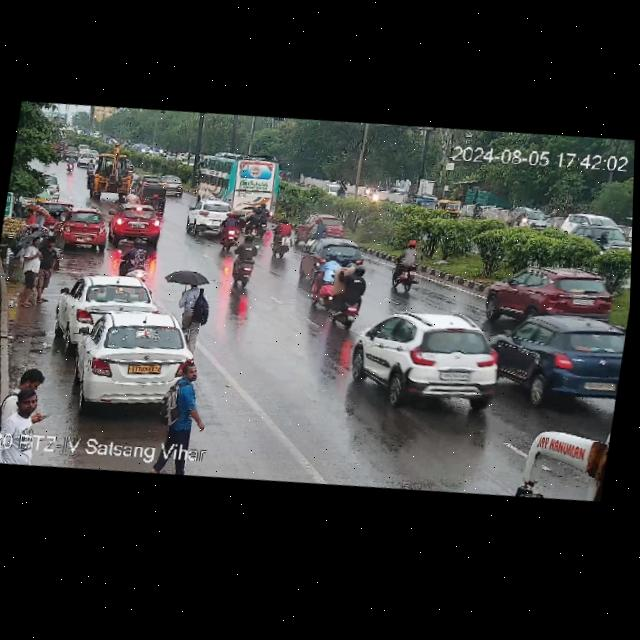bus: (503, 401, 609, 507), (190, 146, 285, 220)
car: (49, 300, 209, 421), (347, 302, 506, 418), (494, 311, 627, 418), (484, 257, 622, 334), (58, 268, 161, 339), (55, 207, 110, 251), (111, 201, 166, 244), (571, 220, 632, 258), (298, 211, 350, 246), (189, 199, 235, 231), (559, 206, 612, 233), (297, 234, 327, 279), (37, 172, 69, 214), (156, 174, 189, 199), (137, 181, 171, 205), (526, 207, 553, 234), (434, 195, 461, 219), (410, 193, 435, 211), (131, 172, 151, 193), (77, 150, 92, 167)
motorcycle: (308, 249, 349, 311), (333, 261, 368, 328), (389, 237, 427, 294), (117, 234, 154, 281), (229, 237, 263, 287), (269, 214, 298, 258), (235, 205, 269, 242), (215, 211, 245, 252), (307, 213, 326, 238), (471, 201, 489, 222), (596, 232, 614, 252), (366, 185, 381, 203), (517, 209, 528, 230), (150, 192, 162, 211), (336, 181, 349, 198), (85, 157, 96, 175), (65, 153, 75, 170), (125, 164, 134, 177)
person: (157, 360, 203, 447), (0, 382, 51, 448), (13, 234, 47, 302), (175, 274, 211, 335), (39, 237, 60, 290), (15, 364, 47, 390), (23, 205, 44, 229)
truck: (83, 149, 141, 200)
